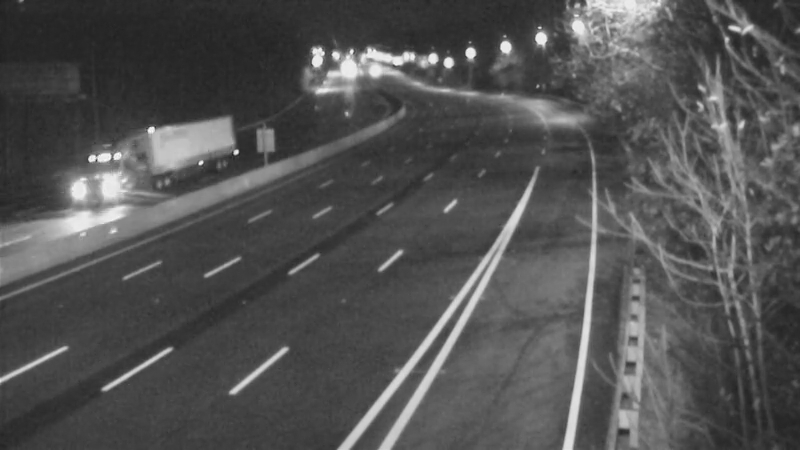vehicle: (89, 134, 169, 214), (351, 44, 401, 94)
